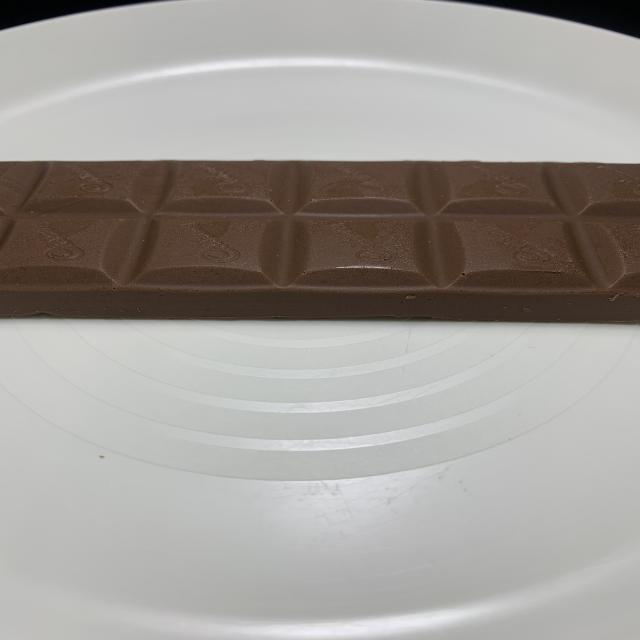Chocolate: (0, 159, 640, 324)
